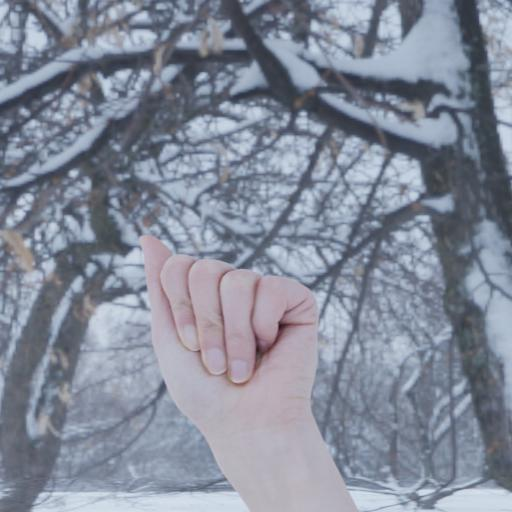A: (135, 231, 328, 424)
